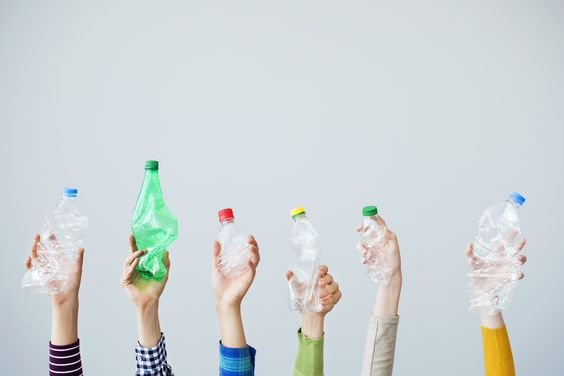Metal: (210, 202, 243, 230), (280, 199, 311, 222), (506, 187, 530, 210), (357, 199, 381, 220), (142, 159, 166, 174), (62, 184, 86, 198)
paper: (469, 200, 526, 323), (20, 199, 90, 290), (126, 169, 179, 284), (287, 224, 328, 312), (357, 220, 399, 289)
